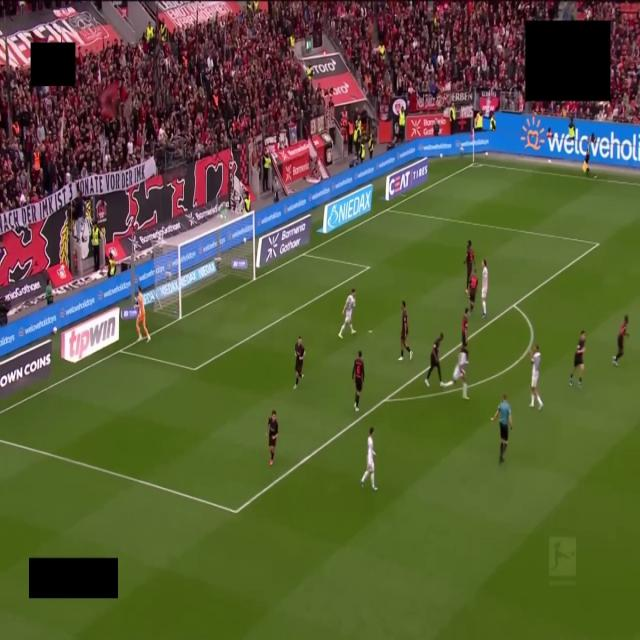player: (446, 347, 468, 399), (425, 333, 444, 386), (361, 427, 376, 491), (570, 330, 585, 388), (530, 344, 543, 409), (339, 288, 355, 338), (136, 285, 150, 342), (399, 301, 412, 360), (613, 315, 628, 366), (352, 351, 364, 411), (294, 336, 306, 389), (267, 410, 278, 465), (465, 240, 474, 295), (481, 259, 488, 318), (469, 271, 478, 312), (461, 308, 468, 346)
referee: (491, 395, 512, 464)
